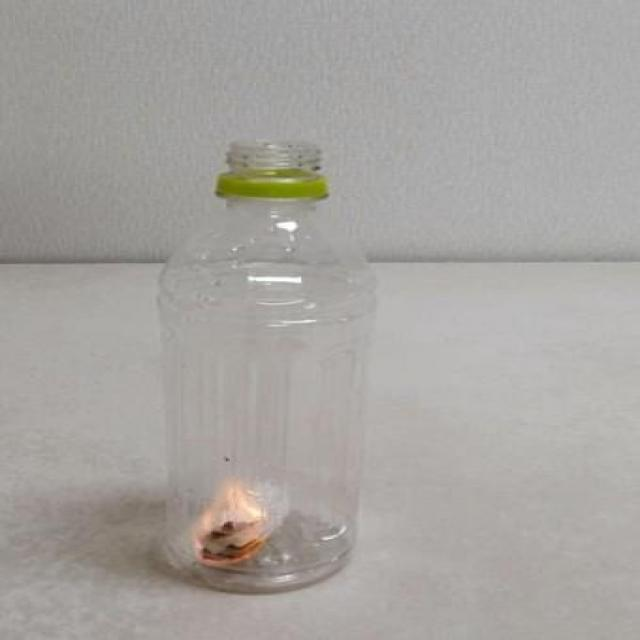bottle: (118, 0, 402, 624)
